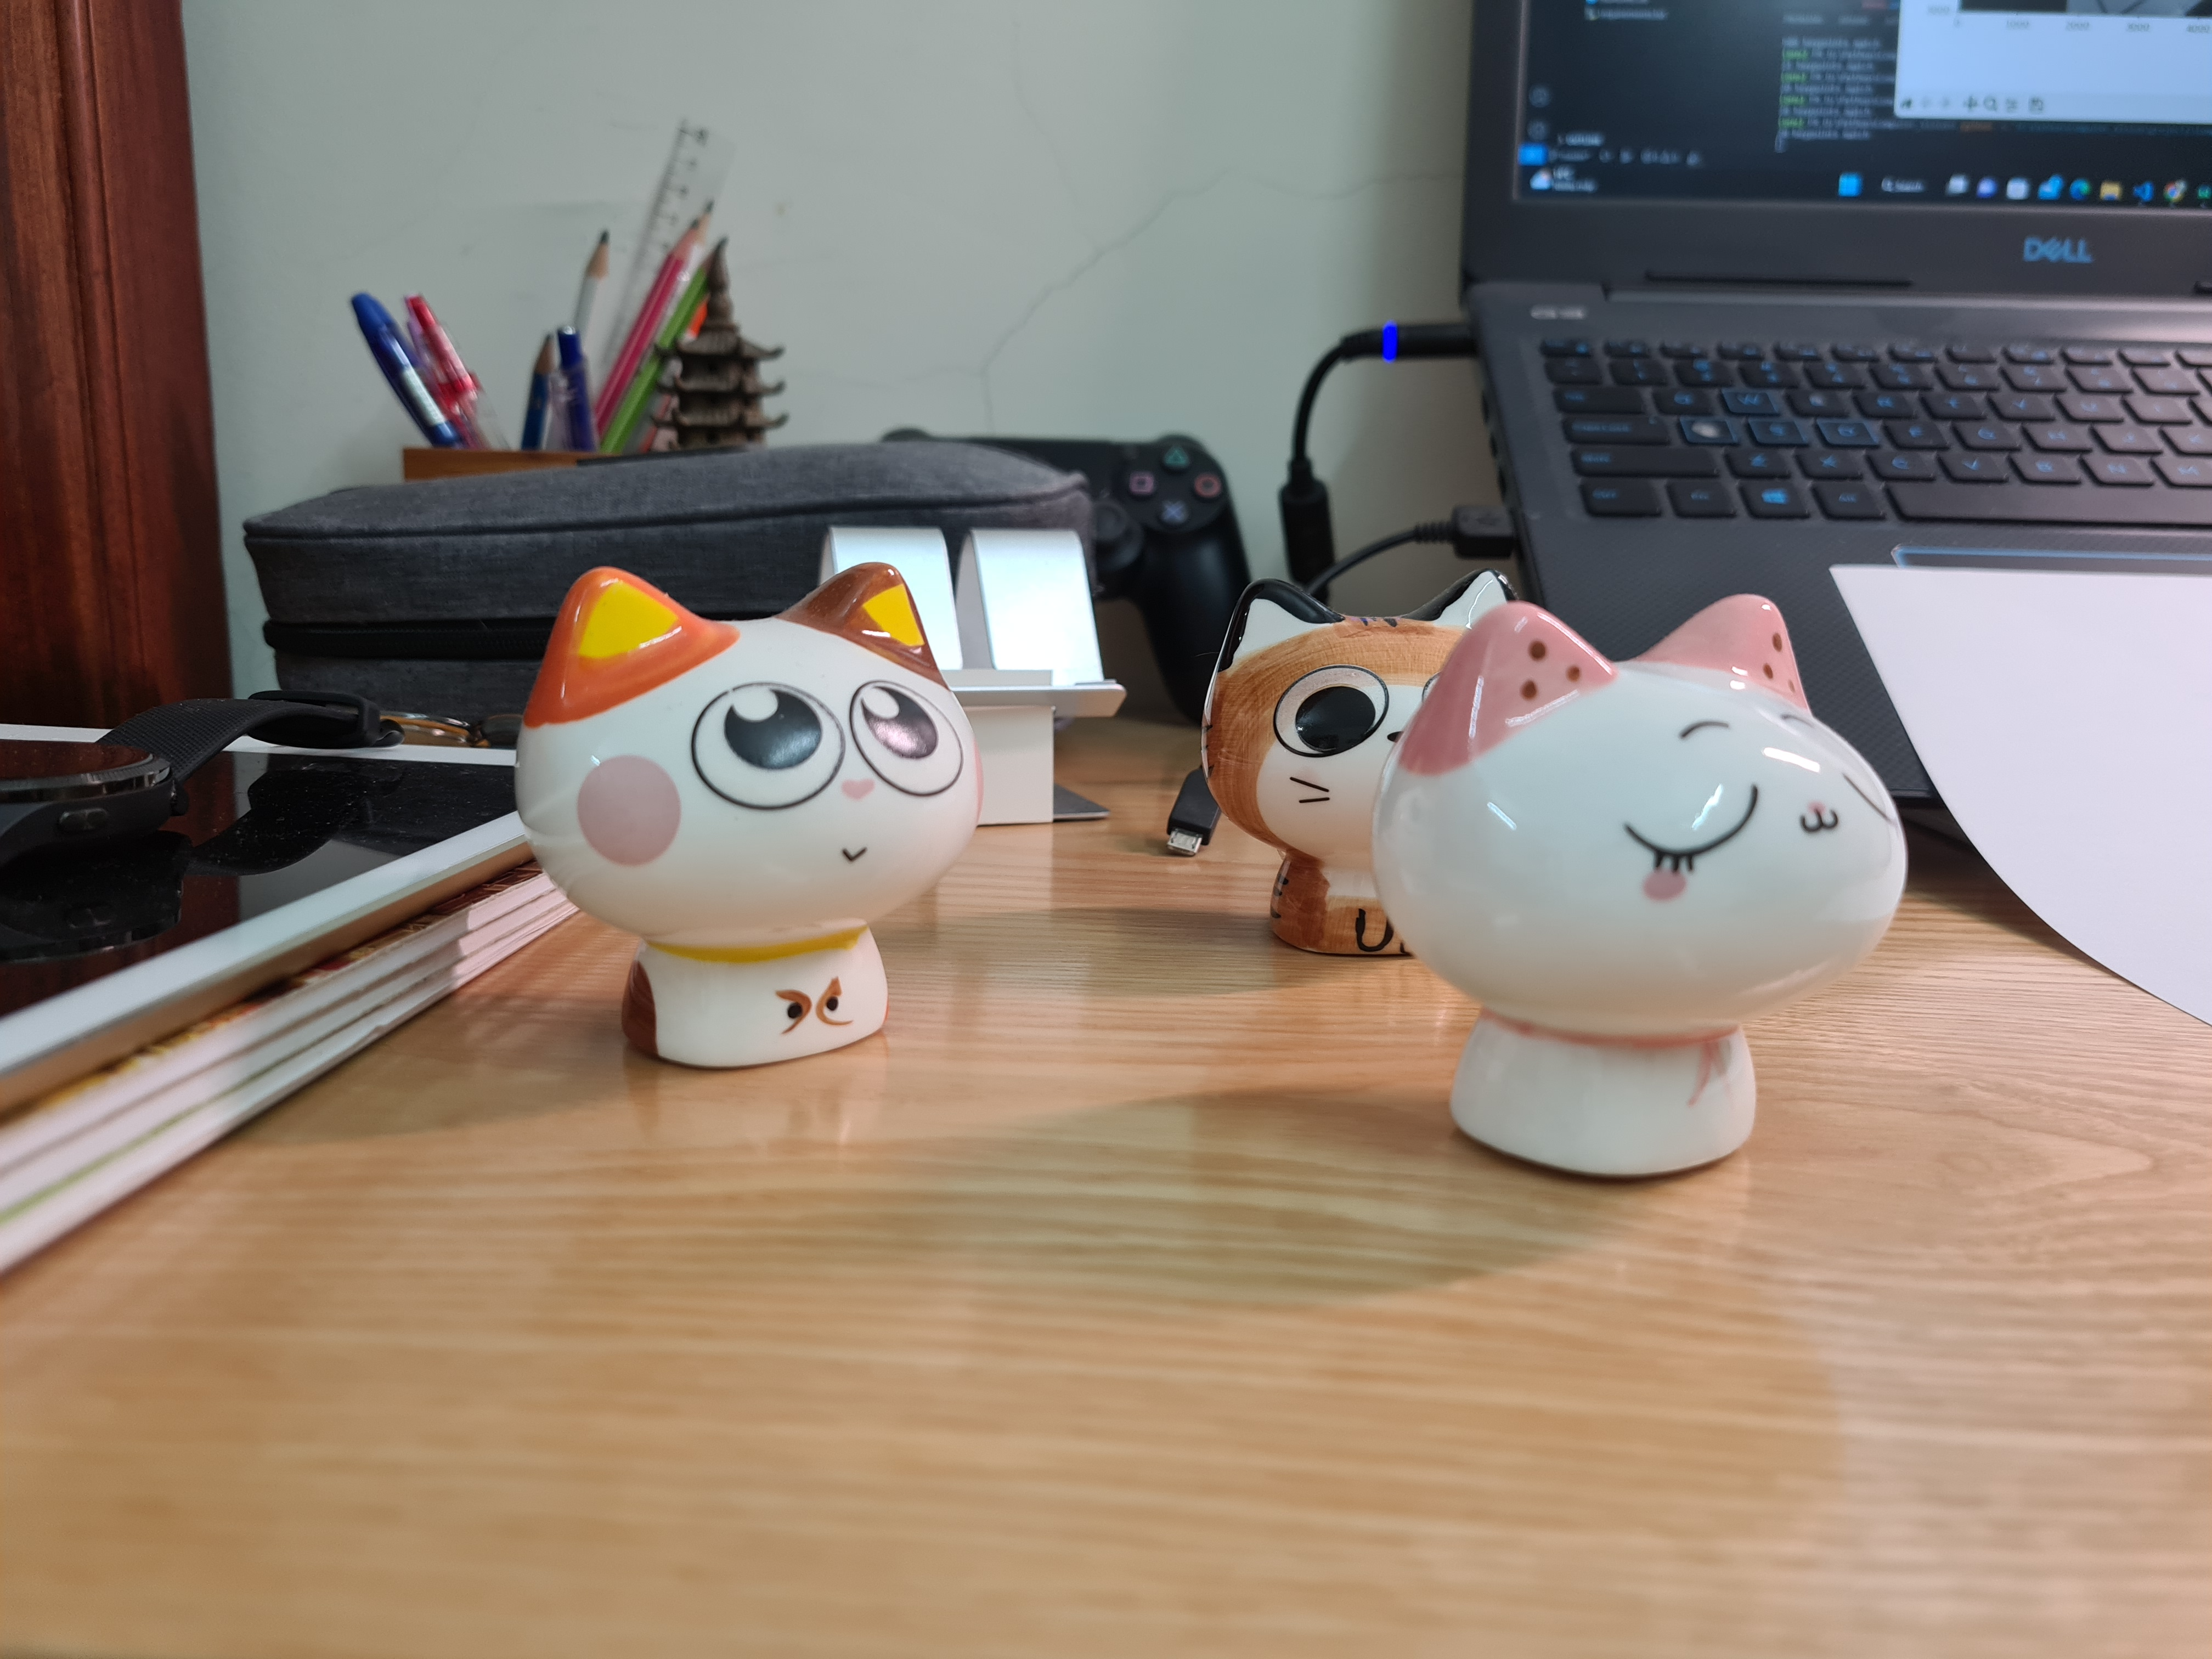cat: (1198, 565, 1557, 957)
